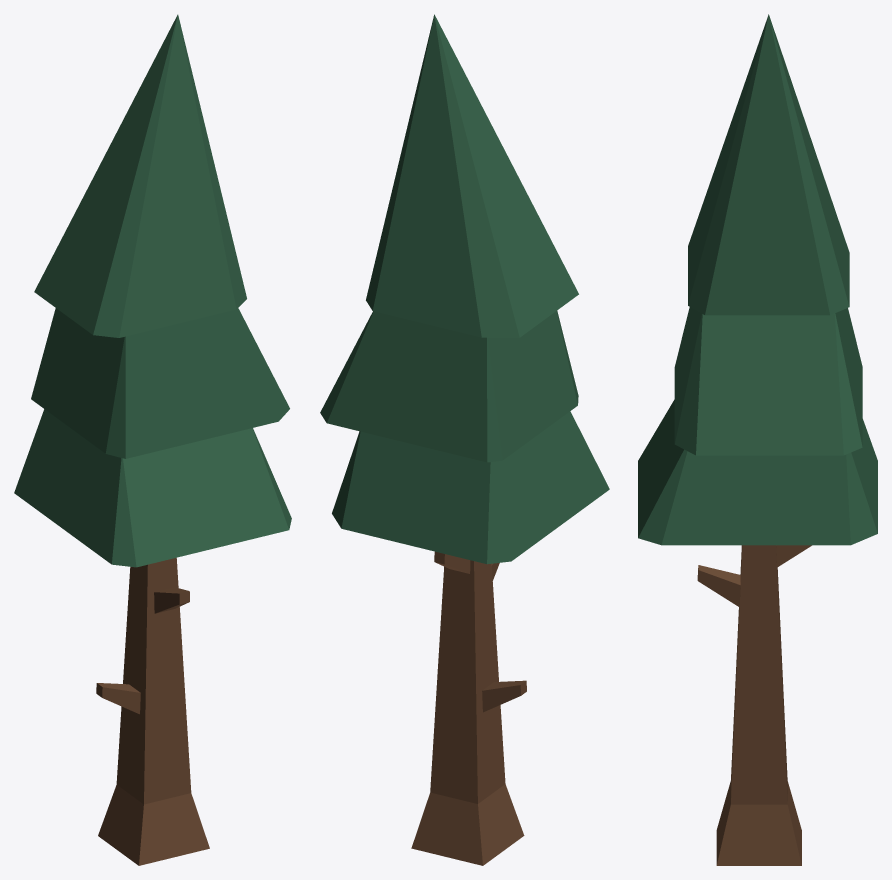
Rendered from pine-tall-safe.glb.
3 views of the same model, side by side, from view 1: azimuth 30°, elevation 25°; view 2: azimuth 150°, elevation 25°; view 3: azimuth 270°, elevation 25° (orthographic). The views are drawn at different scales.
Visible parts, largest first — view 1: safe-mesh-1-Mesh_tree_pineTallA_detailed_1, safe-mesh-0-Mesh_tree_pineTallA_detailed; view 2: safe-mesh-1-Mesh_tree_pineTallA_detailed_1, safe-mesh-0-Mesh_tree_pineTallA_detailed; view 3: safe-mesh-1-Mesh_tree_pineTallA_detailed_1, safe-mesh-0-Mesh_tree_pineTallA_detailed.
Boxes of the visible parts, left/top/right/bottom form: safe-mesh-1-Mesh_tree_pineTallA_detailed_1: left=14, top=14, right=291, bottom=567; safe-mesh-0-Mesh_tree_pineTallA_detailed: left=96, top=557, right=209, bottom=865; safe-mesh-1-Mesh_tree_pineTallA_detailed_1: left=320, top=14, right=609, bottom=564; safe-mesh-0-Mesh_tree_pineTallA_detailed: left=411, top=551, right=526, bottom=865; safe-mesh-1-Mesh_tree_pineTallA_detailed_1: left=638, top=14, right=877, bottom=545; safe-mesh-0-Mesh_tree_pineTallA_detailed: left=697, top=545, right=811, bottom=865.
Bounding box in the file's own units: 0.3863 × 1.53 × 0.392.
